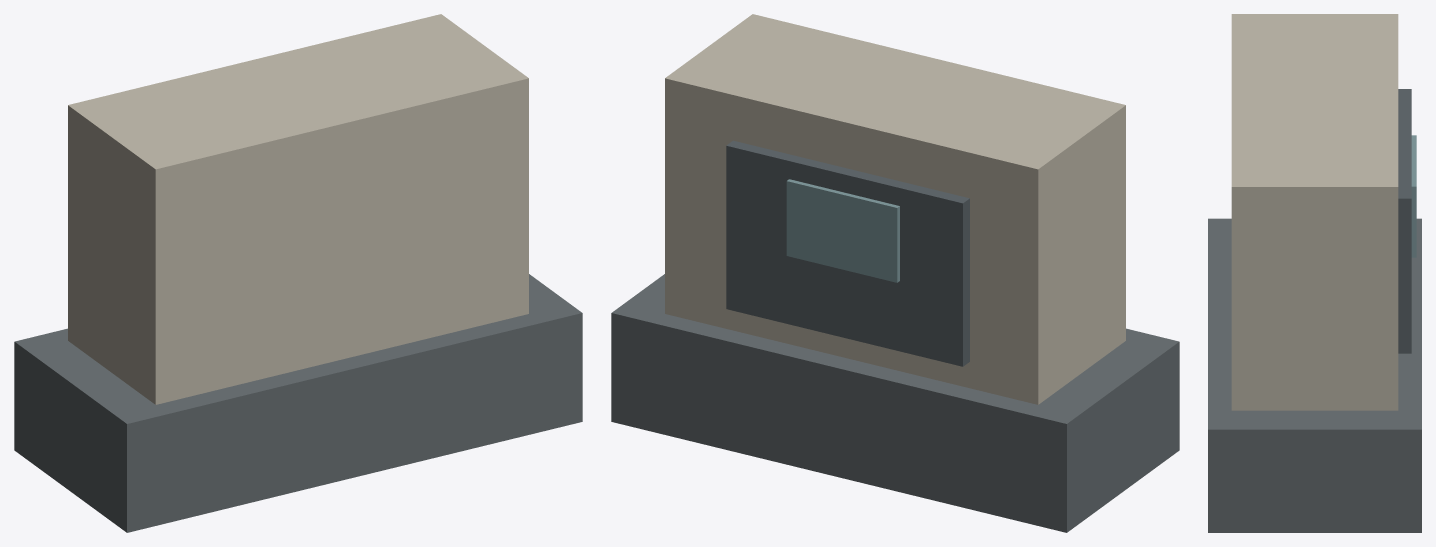
Rendered from iz3_production_battery_01.glb.
3 renders of one model, left to right at view 1: azimuth 30°, elevation 25°; view 2: azimuth 150°, elevation 25°; view 3: azimuth 270°, elevation 25°, orthographic. The views are drawn at different scales.
Parts seen in each view (by area): view 1: cabinet, base; view 2: cabinet, base, panel, display; view 3: cabinet, base, panel, display.
Part boxes in pixels (x1=…): cabinet: x1=68, y1=14, x2=528, y2=404; base: x1=14, y1=274, x2=582, y2=532; cabinet: x1=665, y1=14, x2=1125, y2=404; base: x1=611, y1=274, x2=1179, y2=532; panel: x1=726, y1=140, x2=969, y2=366; display: x1=786, y1=179, x2=899, y2=282; cabinet: x1=1231, y1=14, x2=1398, y2=410; base: x1=1208, y1=218, x2=1421, y2=532; panel: x1=1398, y1=89, x2=1411, y2=353; display: x1=1411, y1=135, x2=1416, y2=257.
Size of the model in its own units: 1.4 by 1.01 by 0.6.
